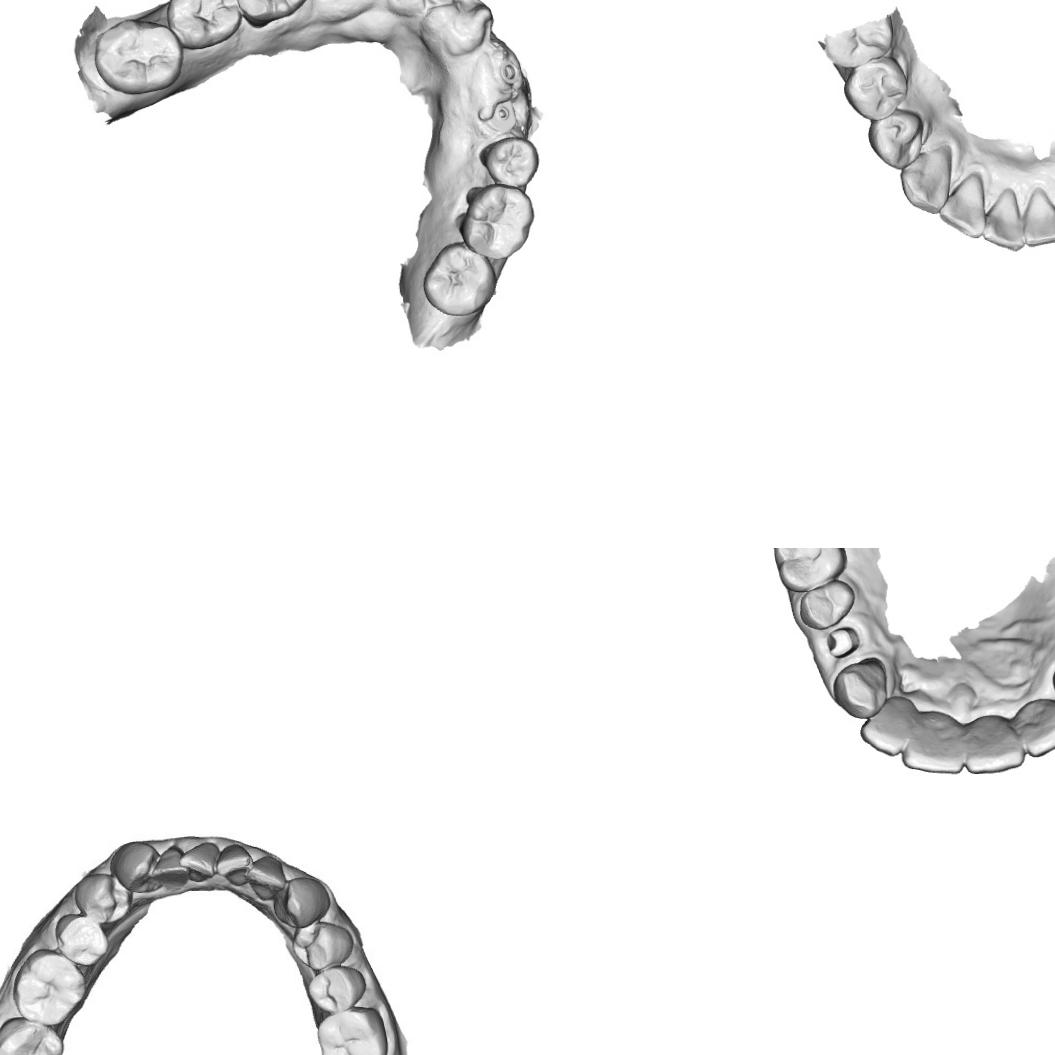abutment: (826, 626, 860, 660)
canine: (898, 146, 956, 217), (831, 655, 888, 720), (272, 876, 330, 930), (110, 838, 161, 898)
implant: (481, 94, 518, 132), (496, 58, 522, 89), (424, 0, 454, 8)
incisor: (899, 710, 965, 776), (963, 713, 1027, 776), (858, 694, 918, 758), (936, 180, 990, 239), (980, 194, 1026, 252), (1013, 696, 1055, 757), (1020, 189, 1055, 248), (183, 839, 222, 882), (248, 854, 287, 894), (152, 846, 188, 888), (220, 845, 251, 879)
molar: (92, 16, 185, 96), (458, 181, 536, 261), (12, 946, 86, 1030), (421, 239, 498, 317), (163, 0, 243, 51), (316, 1008, 391, 1055), (771, 548, 848, 593), (0, 1014, 65, 1055), (231, 0, 312, 28)
premolar: (843, 55, 911, 122), (866, 109, 928, 172), (52, 910, 112, 972), (290, 918, 354, 972), (74, 870, 132, 928), (306, 964, 369, 1014), (482, 135, 541, 188), (797, 579, 856, 630)
